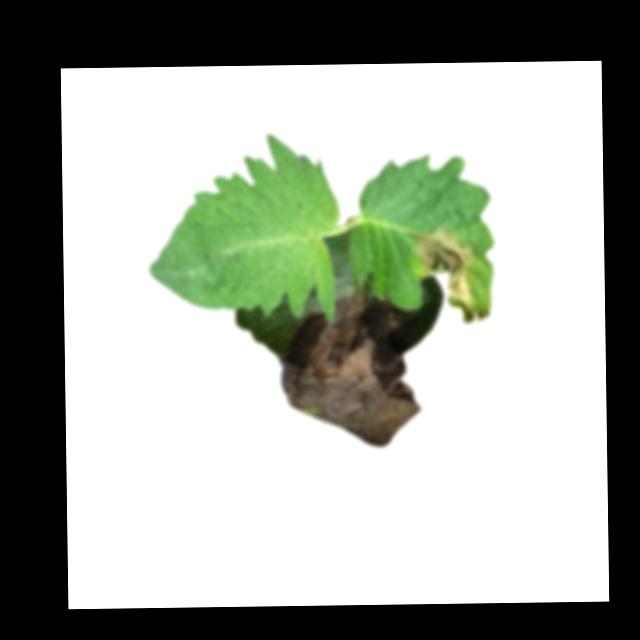Late_blight: (279, 293, 434, 449), (407, 228, 489, 327)
healthy: (146, 132, 341, 324)
